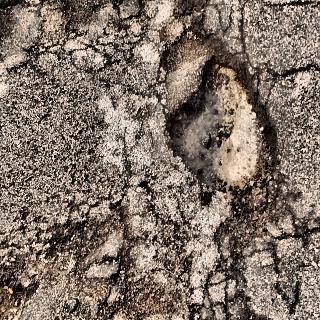pothole: (137, 21, 308, 233)
